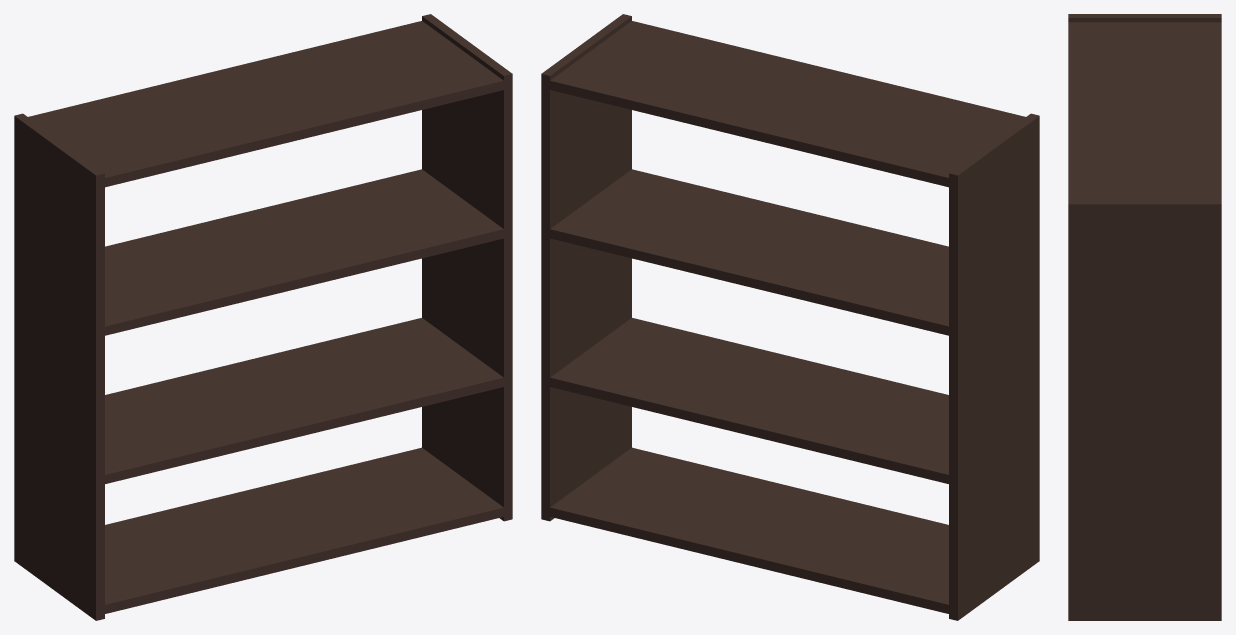
Rendered from Bookshelf.gltf.
3 renders of one model, left to right at view 1: azimuth 30°, elevation 25°; view 2: azimuth 150°, elevation 25°; view 3: azimuth 270°, elevation 25°, orthographic. The views are drawn at different scales.
Visible parts, largest first — view 1: west_wall, shelf_1, shelf_3, shelf_2, shelf_4, east_wall; view 2: west_wall, shelf_1, shelf_3, shelf_2, shelf_4, east_wall; view 3: east_wall, shelf_1, west_wall.
Part boxes in pixels (box(x1,y1,x2,y2)): west_wall: box(14, 113, 104, 620); shelf_1: box(28, 21, 503, 187); shelf_3: box(105, 318, 503, 483); shelf_2: box(105, 169, 503, 335); shelf_4: box(105, 447, 503, 613); east_wall: box(422, 14, 512, 521); west_wall: box(949, 113, 1039, 620); shelf_1: box(550, 21, 1025, 187); shelf_3: box(550, 318, 948, 483); shelf_2: box(550, 169, 948, 335); shelf_4: box(550, 447, 948, 613); east_wall: box(541, 14, 631, 521); east_wall: box(1068, 200, 1221, 620); shelf_1: box(1068, 22, 1221, 200); west_wall: box(1068, 14, 1221, 22).
Bounding box in the file's own units: 2.94 × 3 × 1.
Materials: 1 (1 with a texture image).
